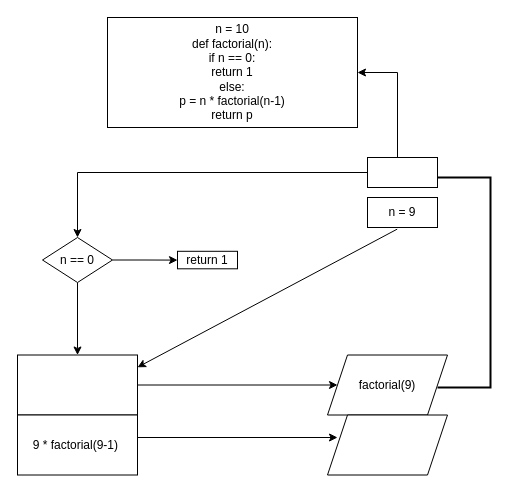
The diagram is 509 pixels wide and 493 high, and some of its shapes have lost their labels. The box of each missing label's shape, as (x1, y1, x2, y2) in pixels:
10 * factorial(10-1): (16, 354, 138, 415)
factorial(8): (326, 414, 448, 475)
n = 10: (366, 156, 438, 188)
